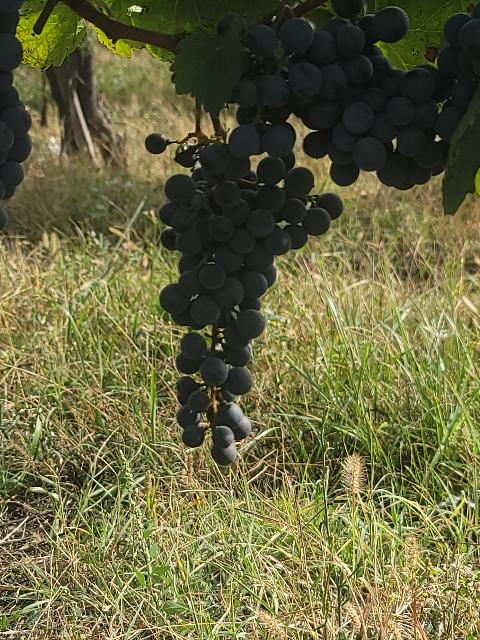grapes: (160, 124, 342, 465), (218, 0, 479, 190)
